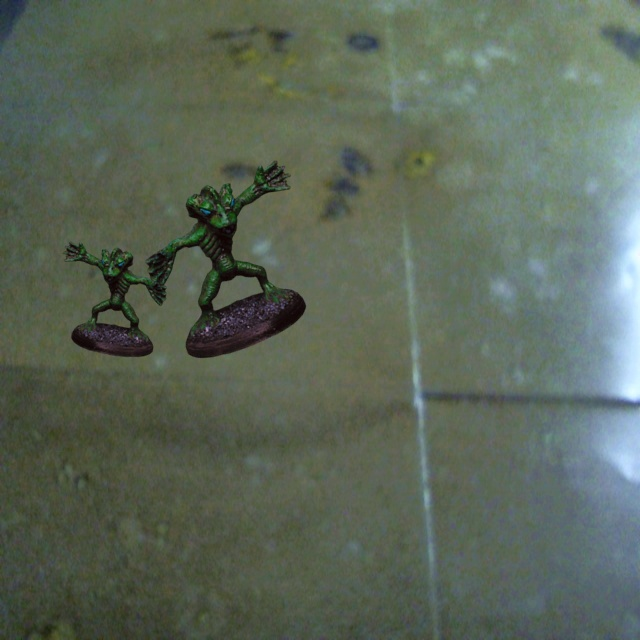pieza_juego: (146, 160, 305, 357), (62, 241, 166, 356)
